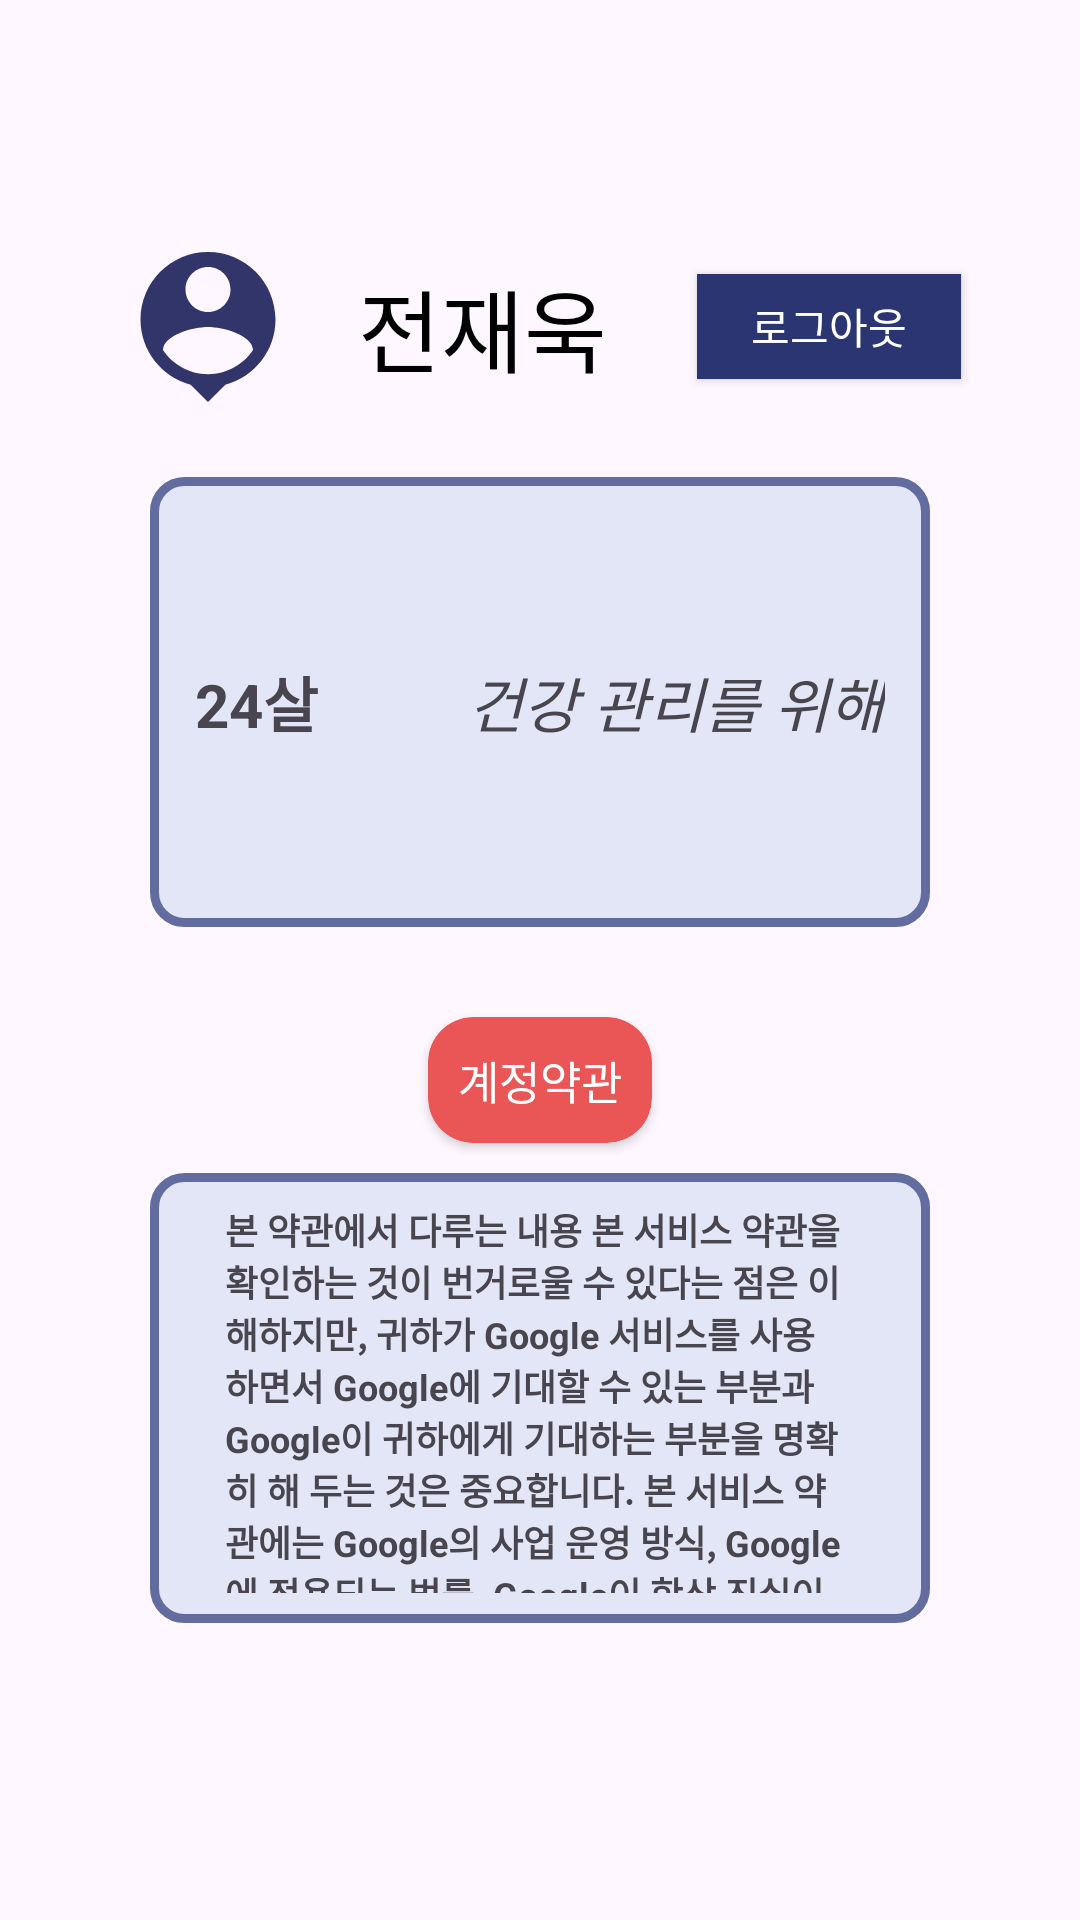

Icons on this 1080*1920 Android screen, each with the point to tap as point (x, y):
user: point (208, 327)
